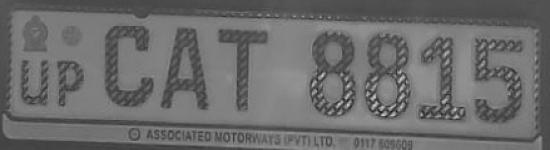1: (416, 27, 469, 127)
5: (469, 28, 528, 130)
8: (306, 27, 365, 120), (362, 26, 416, 125)
A: (210, 20, 273, 120), (160, 23, 210, 118)
C: (100, 23, 161, 116)
P: (54, 57, 92, 109)
U: (16, 54, 54, 109)
